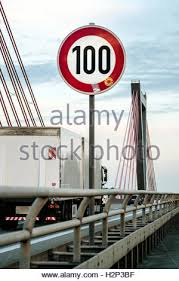Speed_limit_100km: (56, 25, 126, 95)
